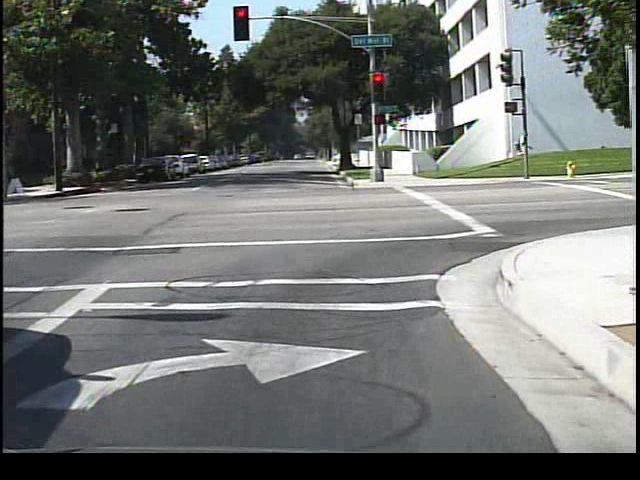person: (507, 128, 531, 174)
